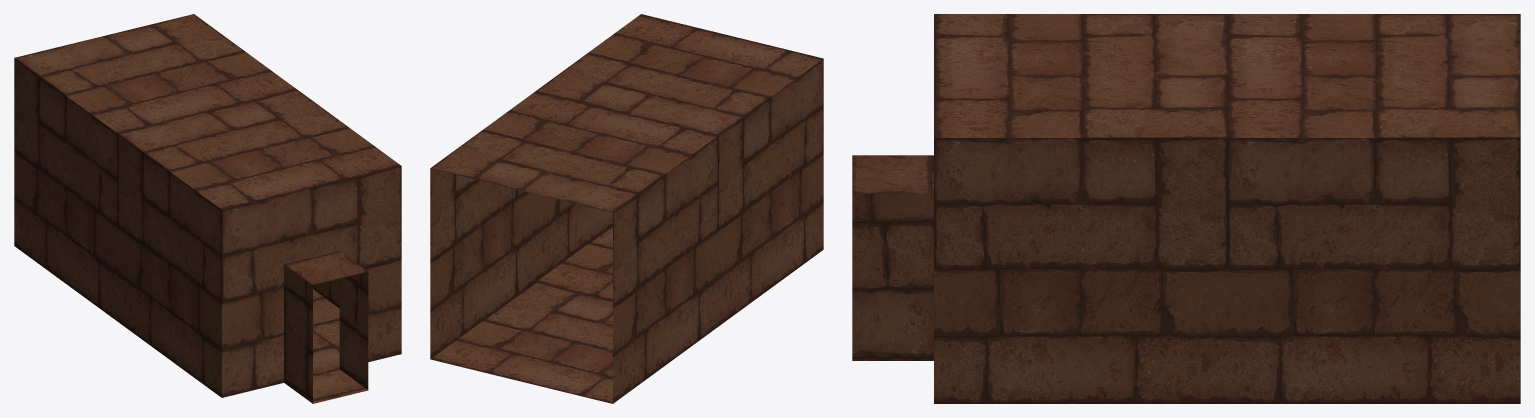
Rendered from Corridor_InsideEntrance_1x2.fbx.
3 renders of one model, left to right at view 1: azimuth 30°, elevation 25°; view 2: azimuth 150°, elevation 25°; view 3: azimuth 270°, elevation 25°, orthographic. The views are drawn at different scales.
Parts seen in each view (by area): view 1: Corridor_InsideEntrance_1x2; view 2: Corridor_InsideEntrance_1x2; view 3: Corridor_InsideEntrance_1x2.
Boxes of the visible parts, x1,y1,x2,y2 form: Corridor_InsideEntrance_1x2: [14, 14, 401, 403]; Corridor_InsideEntrance_1x2: [430, 14, 823, 403]; Corridor_InsideEntrance_1x2: [852, 14, 1520, 403].
Size of the model in its own units: 66.08 by 66.08 by 151.
